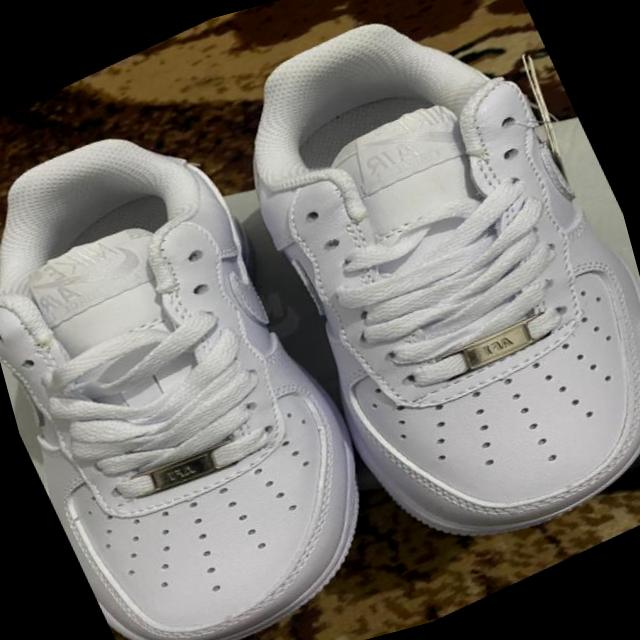nike_fake_airforce: (180, 0, 640, 602), (0, 65, 429, 640)
